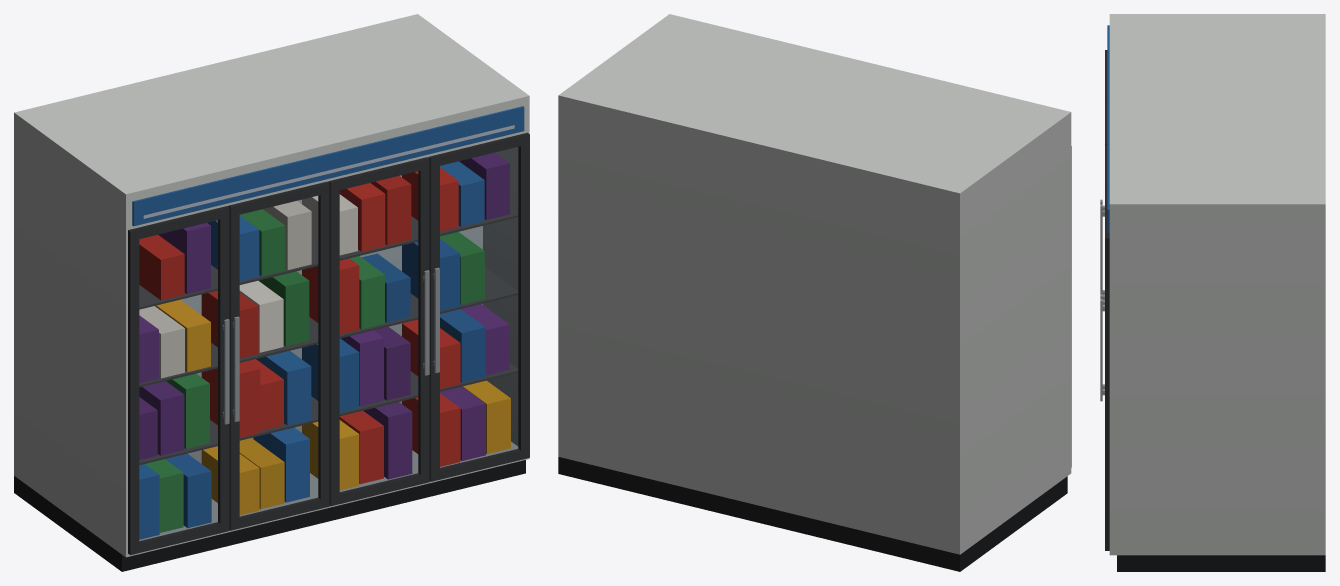
The model's file is appliance.freezer_upright.white.glb.
3 views of the same model, side by side, from view 1: azimuth 30°, elevation 25°; view 2: azimuth 150°, elevation 25°; view 3: azimuth 270°, elevation 25° (orthographic). The views are drawn at different scales.
Visible parts, largest first — view 1: appliance_freezer_upright_white; view 2: appliance_freezer_upright_white; view 3: appliance_freezer_upright_white.
Part boxes in pixels (box(x1,y1,x2,y2)): appliance_freezer_upright_white: box(14, 14, 529, 571); appliance_freezer_upright_white: box(558, 14, 1071, 571); appliance_freezer_upright_white: box(1100, 14, 1325, 571).
Size of what is drawn, in the model's own units: 2.44 by 2.2 by 1.22.
